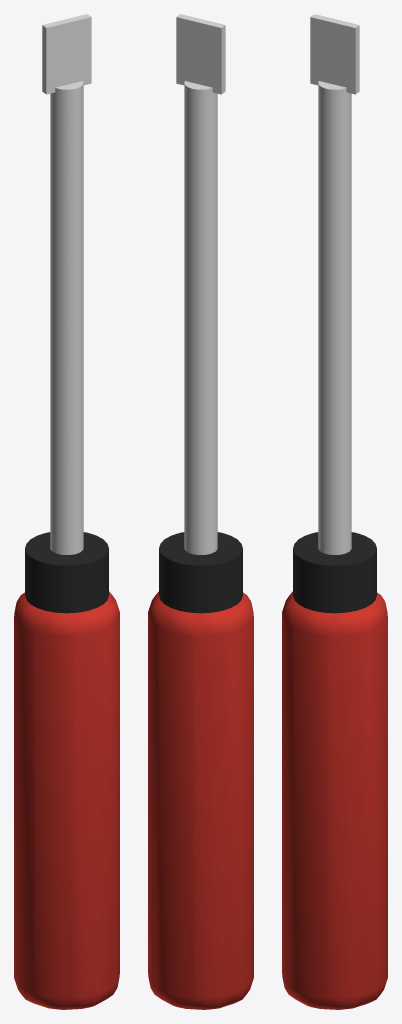
Rendered from Screwdriver.fbx.
3 renders of one model, left to right at view 1: azimuth 30°, elevation 25°; view 2: azimuth 150°, elevation 25°; view 3: azimuth 330°, elevation 25°, orthographic.
Parts seen in each view (by area): view 1: Screwdriver; view 2: Screwdriver; view 3: Screwdriver.
Part boxes in pixels (bbox=[...]): Screwdriver: bbox=[14, 14, 119, 1009]; Screwdriver: bbox=[148, 14, 253, 1009]; Screwdriver: bbox=[282, 14, 387, 1009].
Size of the model in its own units: 9.99 by 102 by 9.99.
